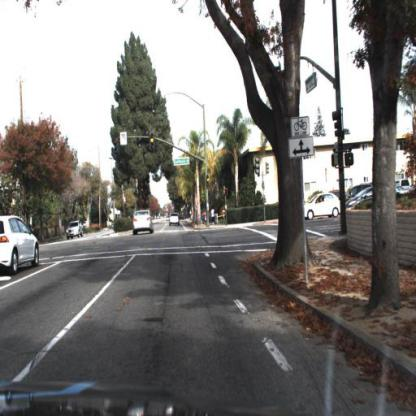car: (2, 215, 40, 275), (346, 187, 403, 218), (304, 192, 342, 222), (132, 208, 155, 235), (66, 219, 84, 240), (169, 214, 180, 230)
pedestrian: (215, 206, 219, 226), (212, 206, 216, 226)
trafficLight-RedLeft: (113, 134, 121, 155), (113, 132, 120, 152)
trafficLight-Yellow: (149, 131, 158, 152), (203, 173, 213, 188), (147, 134, 155, 152), (206, 174, 211, 191)
